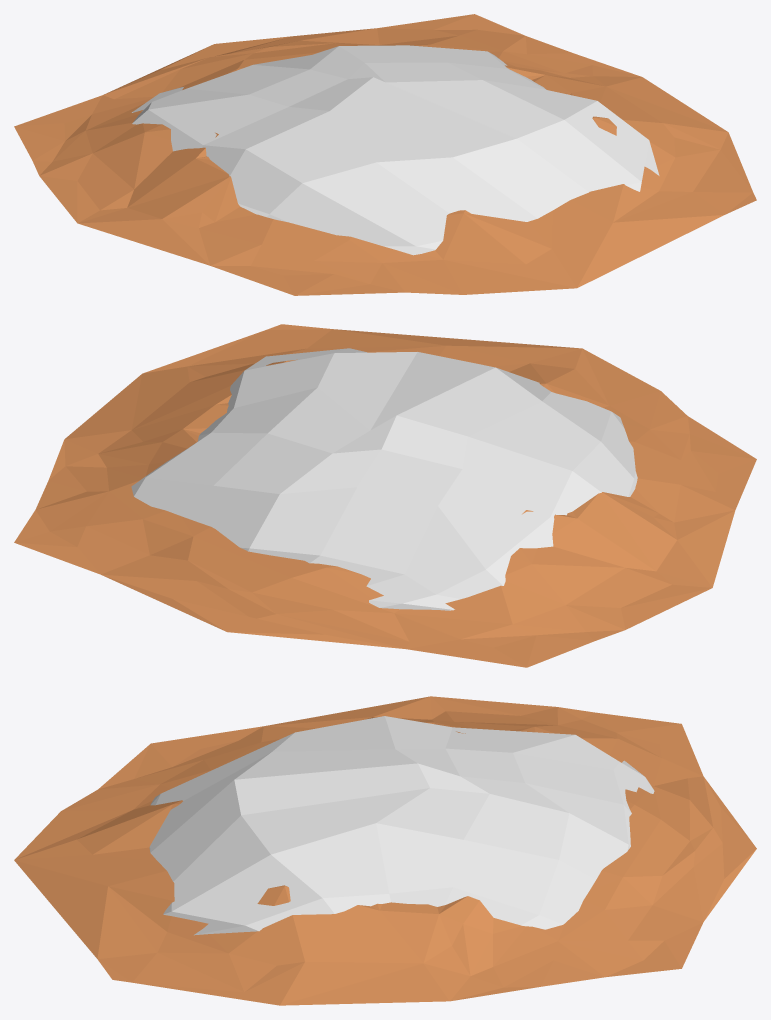
The model's file is island1.fbx.
3 renders of one model, top to bottom at view 1: azimuth 30°, elevation 25°; view 2: azimuth 150°, elevation 25°; view 3: azimuth 270°, elevation 25°, orthographic. The views are drawn at different scales.
Parts seen in each view (by area): view 1: Grid, Grid.002; view 2: Grid, Grid.002; view 3: Grid, Grid.002.
Boxes of the visible parts, <box> form: Grid: <box>14,14,756,295</box>; Grid.002: <box>132,45,659,255</box>; Grid: <box>14,324,756,667</box>; Grid.002: <box>131,348,637,610</box>; Grid: <box>14,696,756,1005</box>; Grid.002: <box>149,716,654,935</box>.
Bounding box in the file's own units: 6544 × 908 × 6644.
